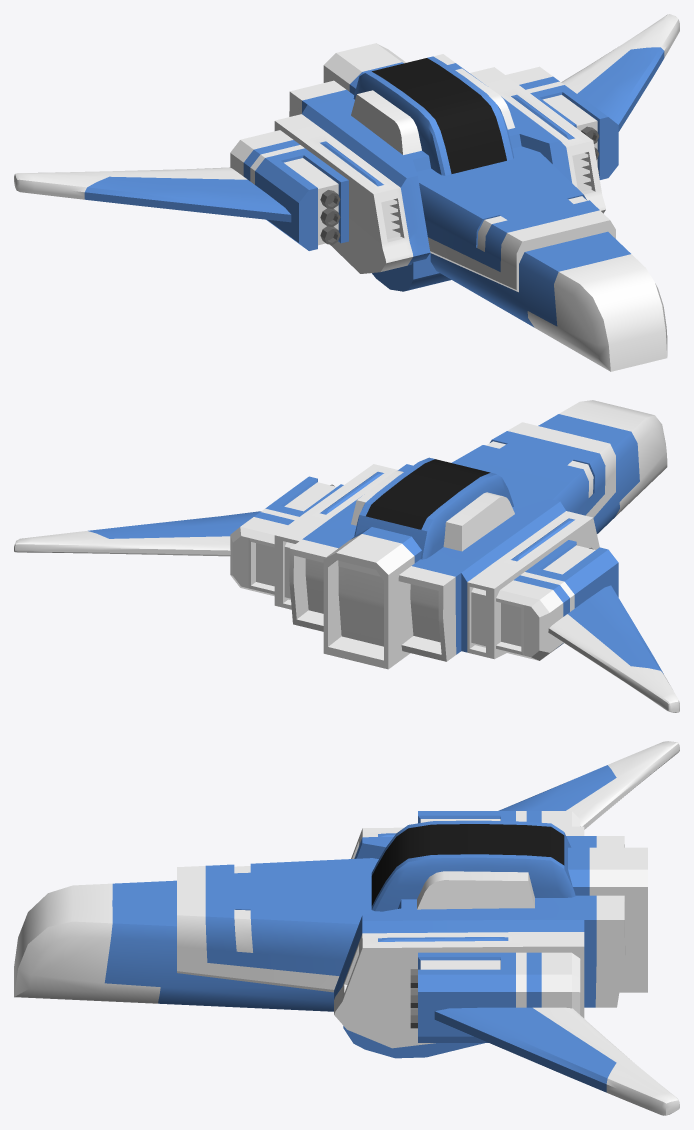
File: Ship_Regular.fbx
The picture shows the model from 3 angles, top to bottom: view 1: azimuth 30°, elevation 25°; view 2: azimuth 150°, elevation 25°; view 3: azimuth 270°, elevation 25°; orthographic projection. The views are drawn at different scales.
Visible parts, largest first — view 1: Spaceship_FernandoTheFlamingo; view 2: Spaceship_FernandoTheFlamingo; view 3: Spaceship_FernandoTheFlamingo.
Part boxes in pixels (x1,y1,x2,y2): Spaceship_FernandoTheFlamingo: (14, 14, 679, 371); Spaceship_FernandoTheFlamingo: (14, 400, 679, 712); Spaceship_FernandoTheFlamingo: (14, 741, 679, 1115).
Bounding box in the file's own units: 1114 × 253 × 866.
